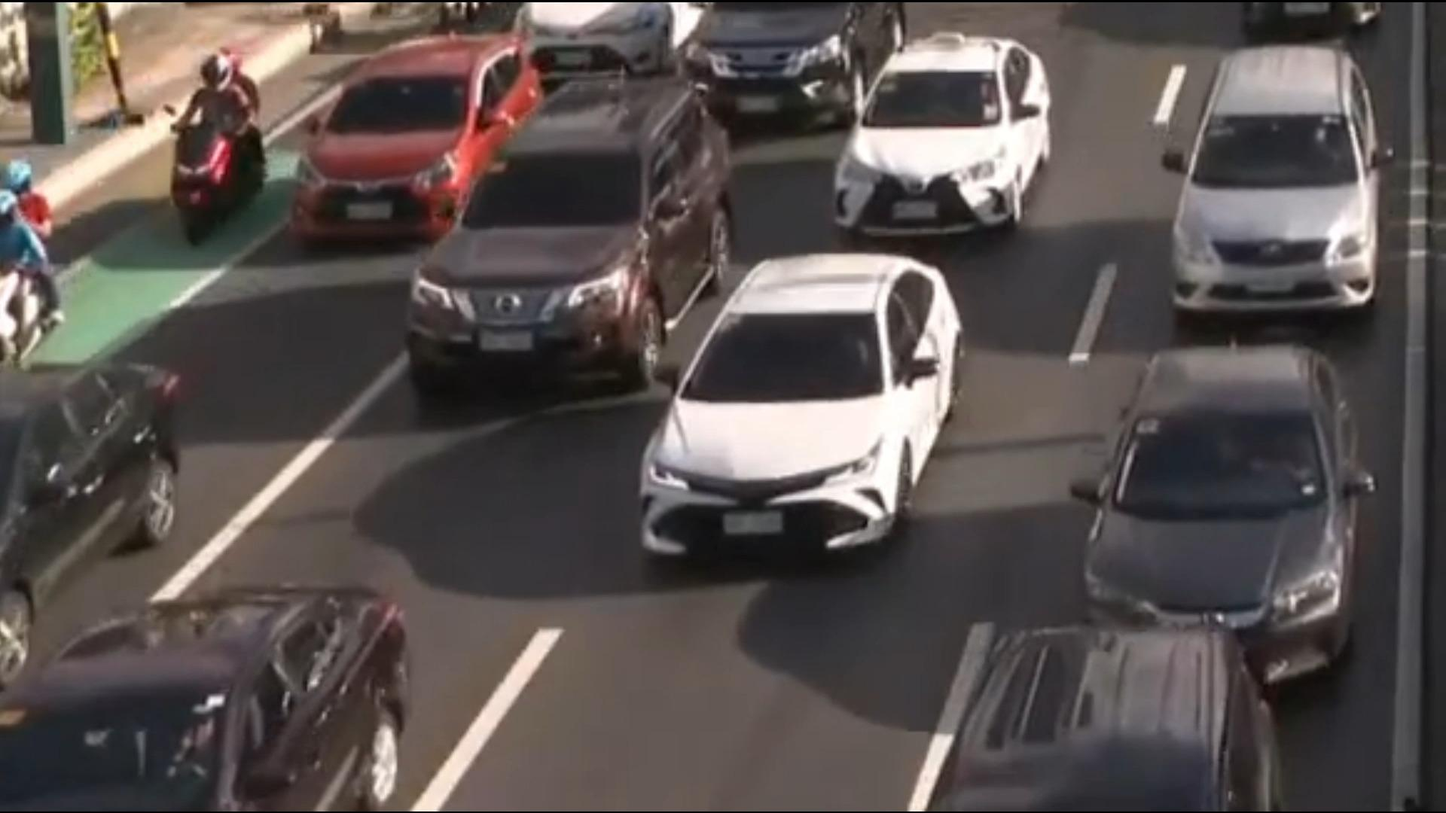Motorcycle: (171, 49, 273, 243), (0, 160, 72, 378)
SUV: (418, 92, 732, 397), (923, 623, 1288, 813), (1169, 47, 1382, 318), (672, 0, 900, 136)
Sedan: (4, 574, 416, 813), (646, 256, 960, 566), (1084, 343, 1358, 693), (0, 354, 188, 664), (292, 41, 538, 243), (840, 26, 1049, 247), (493, 0, 693, 83)
